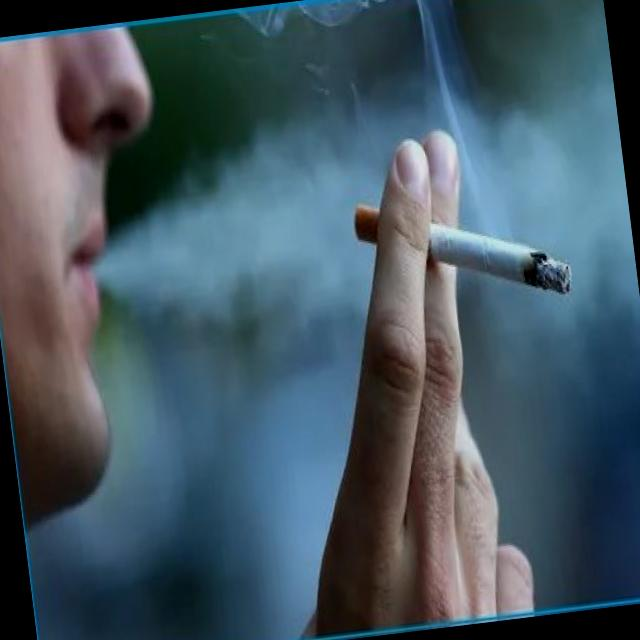cigarette: (348, 172, 577, 324)
